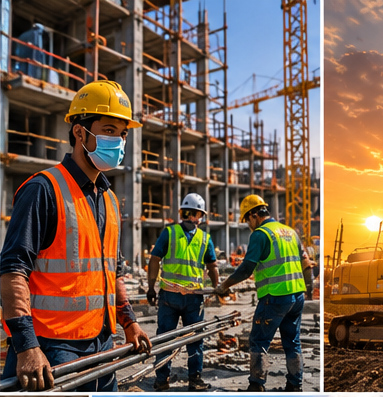hardhat: (60, 78, 139, 124), (176, 189, 215, 215), (232, 193, 266, 222)
person: (6, 72, 150, 389), (226, 188, 310, 392), (150, 183, 220, 388)
safety_vest: (18, 163, 127, 337), (242, 226, 301, 307), (164, 220, 213, 303)
